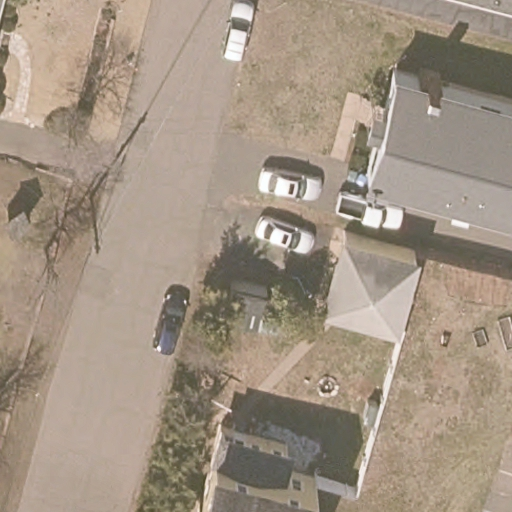DT: (87, 195, 103, 256)
